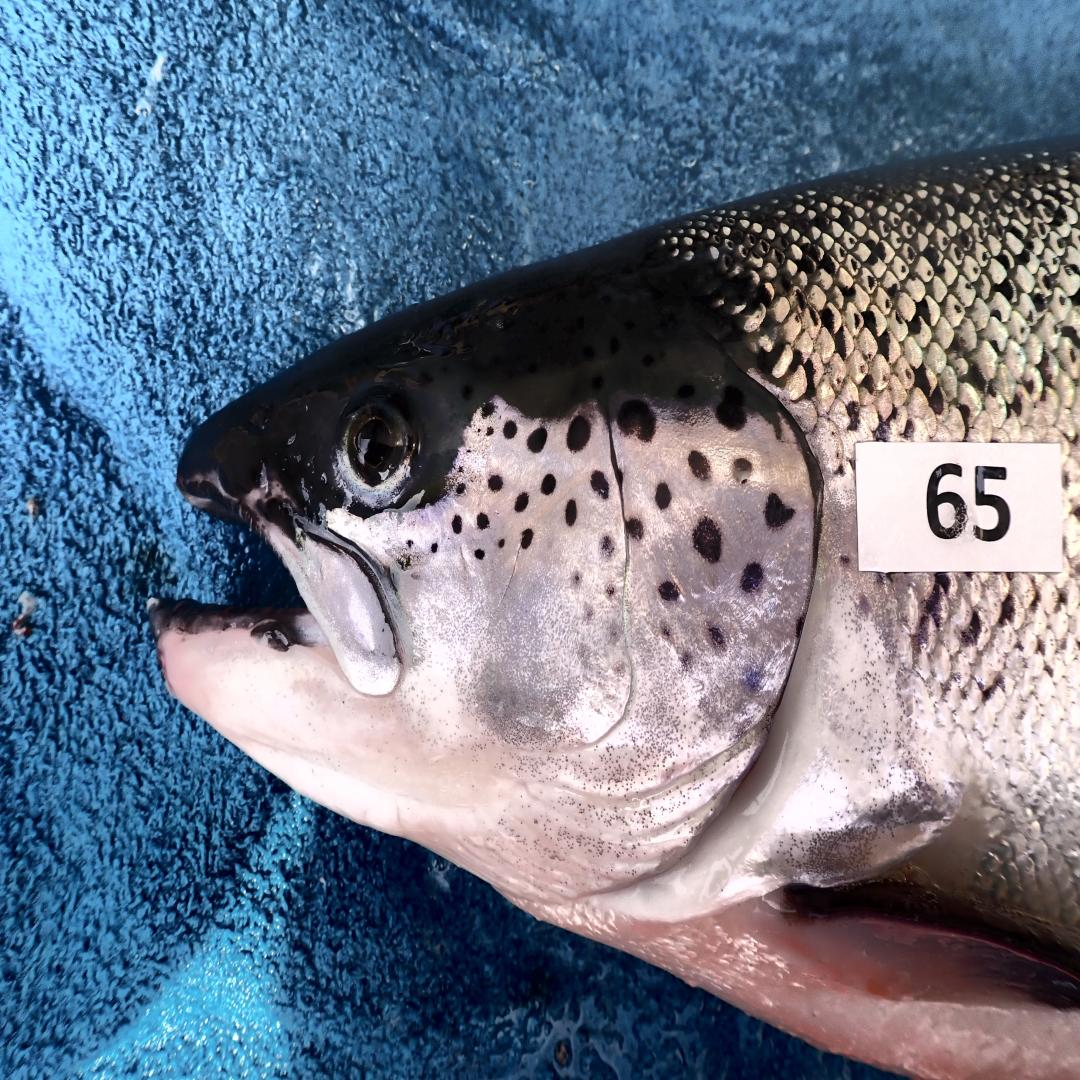spot: (617, 399, 656, 442), (715, 385, 747, 430), (692, 518, 724, 562), (765, 492, 795, 529), (566, 416, 591, 453), (740, 562, 764, 593), (688, 450, 711, 481), (707, 626, 728, 654), (732, 458, 753, 484), (591, 470, 610, 498), (527, 427, 546, 453), (658, 579, 679, 602), (744, 667, 762, 693), (540, 472, 557, 497), (656, 484, 671, 509), (626, 518, 643, 540), (565, 501, 578, 526), (600, 536, 614, 558), (515, 492, 529, 512), (487, 475, 502, 492), (503, 421, 517, 439), (521, 529, 534, 548), (451, 515, 462, 534), (477, 512, 489, 529), (481, 402, 494, 416), (660, 626, 671, 641), (681, 651, 690, 669), (605, 584, 616, 598), (572, 573, 580, 588), (475, 548, 485, 560), (456, 482, 466, 494), (486, 426, 494, 436), (431, 543, 438, 553), (498, 538, 504, 548)
